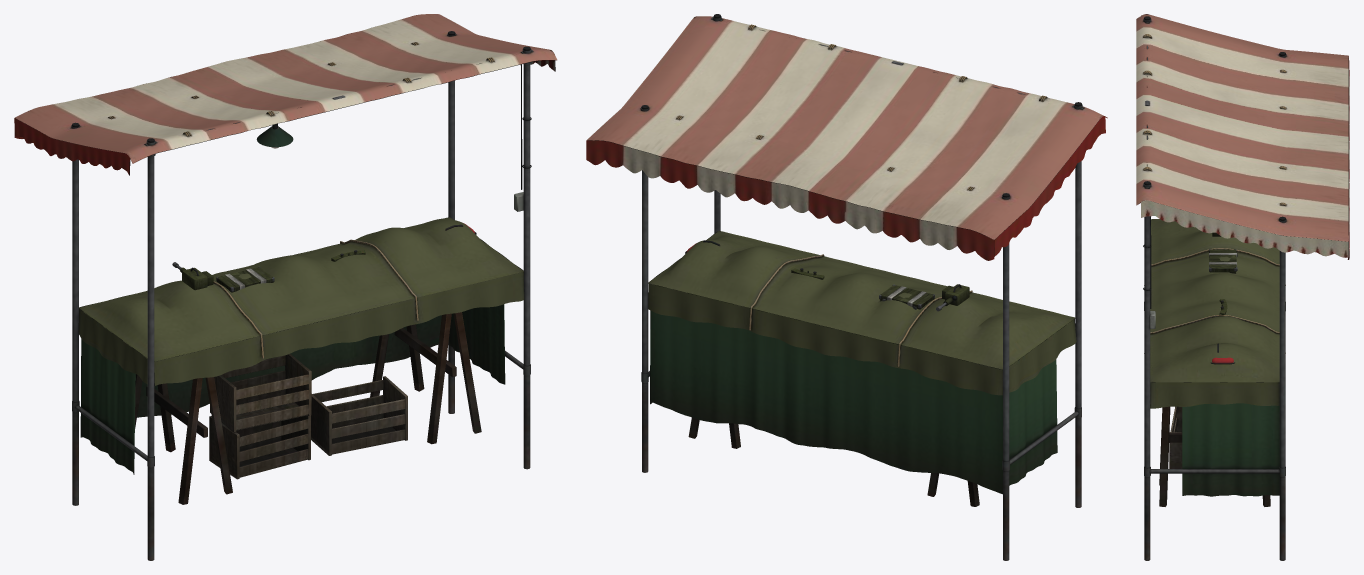
The model's file is market-stall.glb.
The picture shows the model from 3 angles, left to right: view 1: azimuth 30°, elevation 25°; view 2: azimuth 150°, elevation 25°; view 3: azimuth 270°, elevation 25°; orthographic projection. The views are drawn at different scales.
Visible parts, largest first — view 1: Stall, Cover, Good_gun; view 2: Stall, Cover, Good_gun; view 3: Stall, Cover, Good_gun.
Boxes of the visible parts, x1,y1,x2,y2 form: Stall: [14, 14, 557, 560]; Cover: [78, 217, 524, 385]; Good_gun: [216, 266, 274, 292]; Stall: [586, 14, 1107, 560]; Cover: [648, 231, 1076, 395]; Good_gun: [879, 284, 934, 309]; Stall: [1136, 14, 1349, 560]; Cover: [1144, 219, 1285, 408]; Good_gun: [1209, 249, 1237, 273].
Bounding box in the file's own units: 2.81 × 2.65 × 1.36.
Materials: 3 (3 with a texture image).
